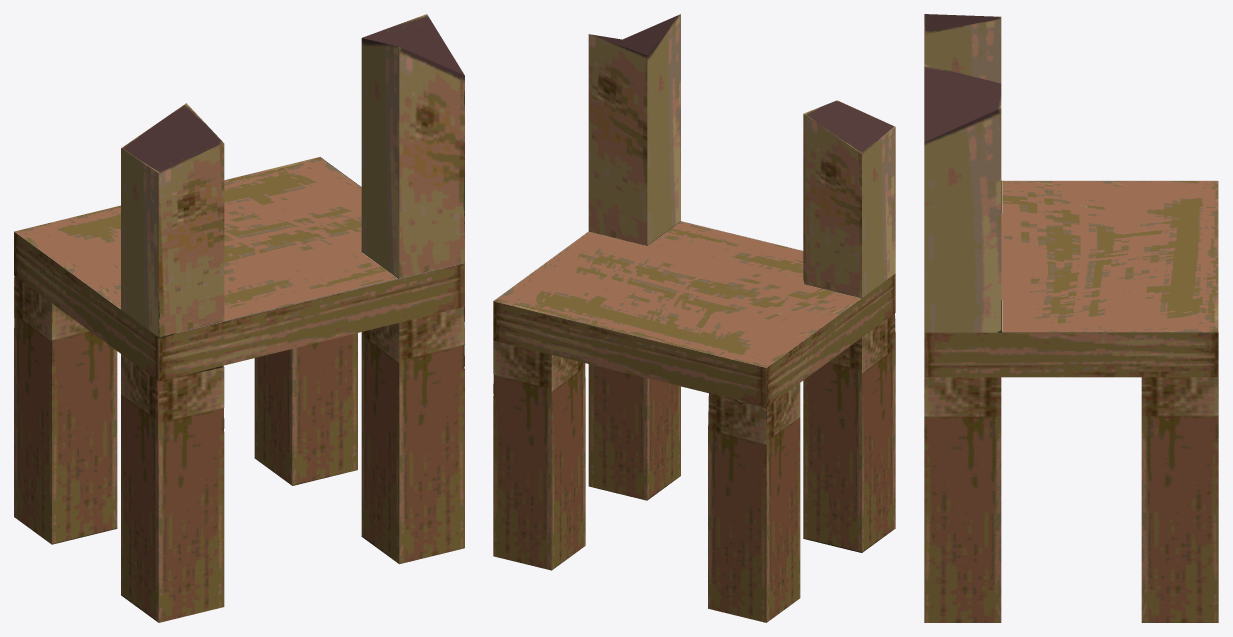
The model's file is Cadeira.fbx.
The picture shows the model from 3 angles, left to right: view 1: azimuth 30°, elevation 25°; view 2: azimuth 150°, elevation 25°; view 3: azimuth 270°, elevation 25°; orthographic projection. The views are drawn at different scales.
Parts seen in each view (by area): view 1: Cube.008; view 2: Cube.008; view 3: Cube.008.
Boxes of the visible parts, bbox=[...] form: Cube.008: bbox=[14, 14, 464, 622]; Cube.008: bbox=[493, 14, 895, 622]; Cube.008: bbox=[924, 14, 1218, 622].
Bounding box in the file's own units: 64.46 × 104 × 52.78.
Materials: 1 (1 with a texture image).
